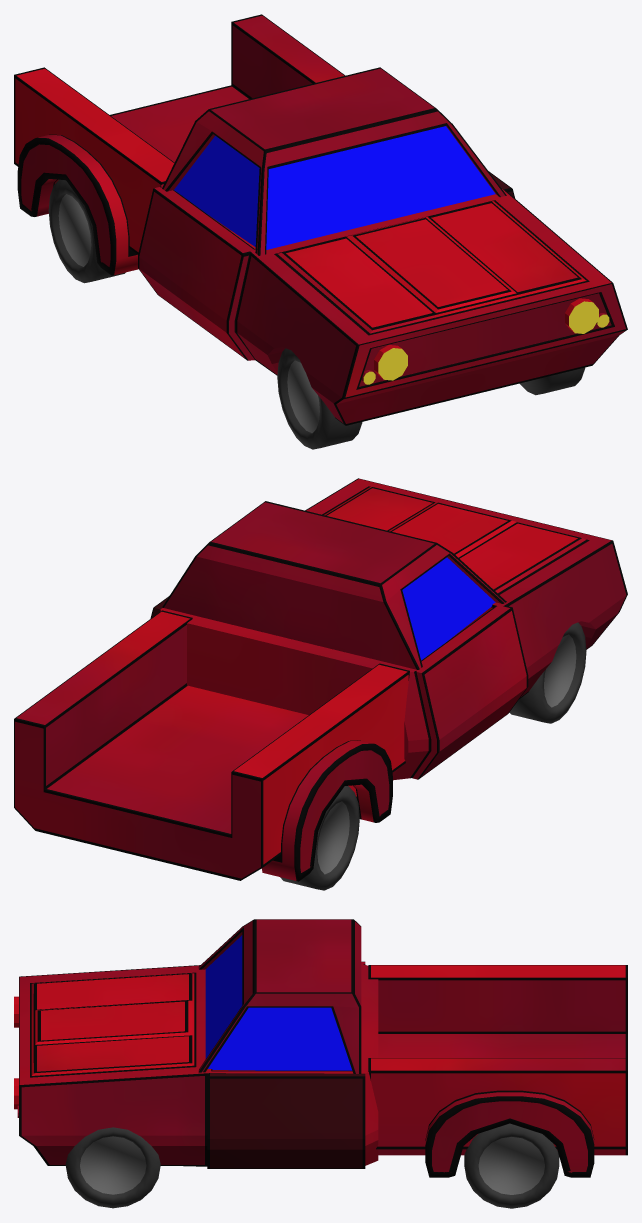
File: Truck.fbx
3 renders of one model, top to bottom at view 1: azimuth 30°, elevation 25°; view 2: azimuth 150°, elevation 25°; view 3: azimuth 270°, elevation 25°, orthographic. The views are drawn at different scales.
Parts seen in each view (by area): view 1: Truck, Truck Glass; view 2: Truck, Truck Glass; view 3: Truck, Truck Glass.
Boxes of the visible parts, x1=… form: Truck: x1=14, y1=14, x2=627, y2=449; Truck Glass: x1=174, y1=126, x2=495, y2=249; Truck: x1=14, y1=478, x2=627, y2=890; Truck Glass: x1=402, y1=557, x2=495, y2=660; Truck: x1=14, y1=919, x2=627, y2=1208; Truck Glass: x1=205, y1=935, x2=352, y2=1070.
Bounding box in the file's own units: 6.51 × 3.22 × 2.32.
